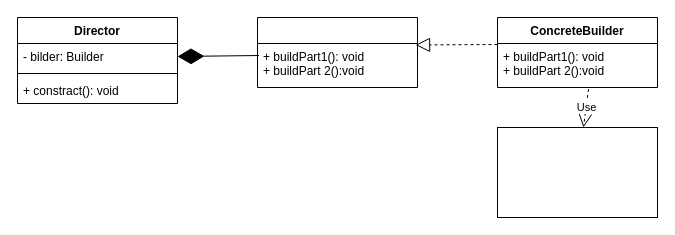
Some shapes in this 675 by 235 pixel diagram are drawn without their labels. The box of each missing label's shape, as (x1, y1, x2, y2) in pixels:
"interface" Builder: (256, 16, 418, 88)
Product: (496, 126, 658, 218)
